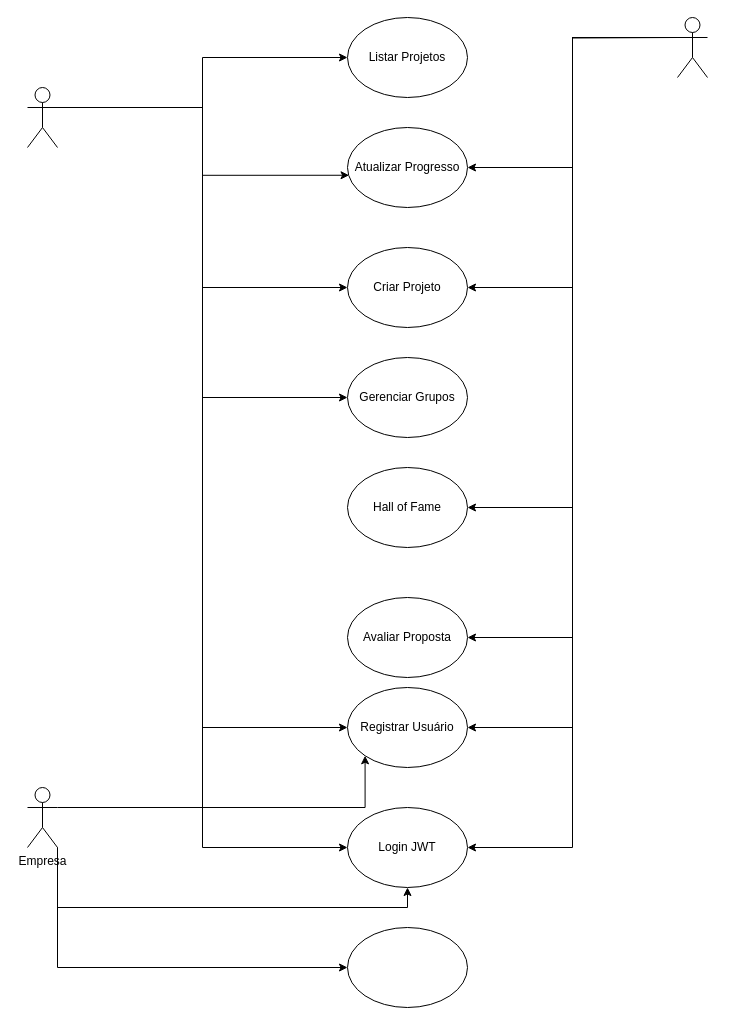
Image size: 745x1025. Some labels were removed from this diagram. The centre of each missing label's shape, as x and y in pixels:
Cadastrar Proposta: point 407,967
Coordenador: point 692,47
Professor: point 42,117
